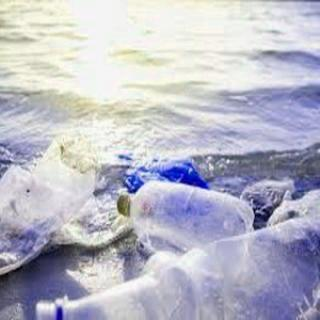Plastic: (44, 214, 320, 320), (117, 176, 256, 246)
Trash: (0, 141, 99, 293), (120, 157, 210, 206)
